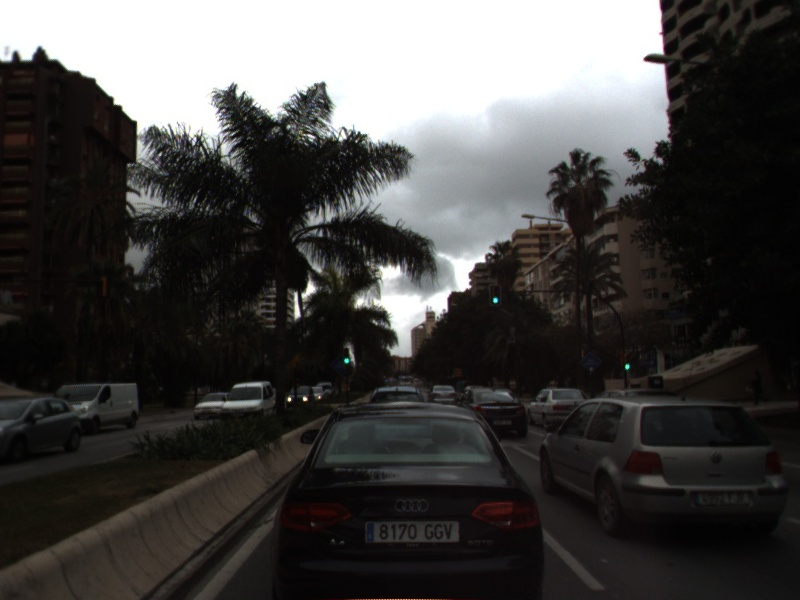STRAIGHT: (499, 435, 542, 462)
